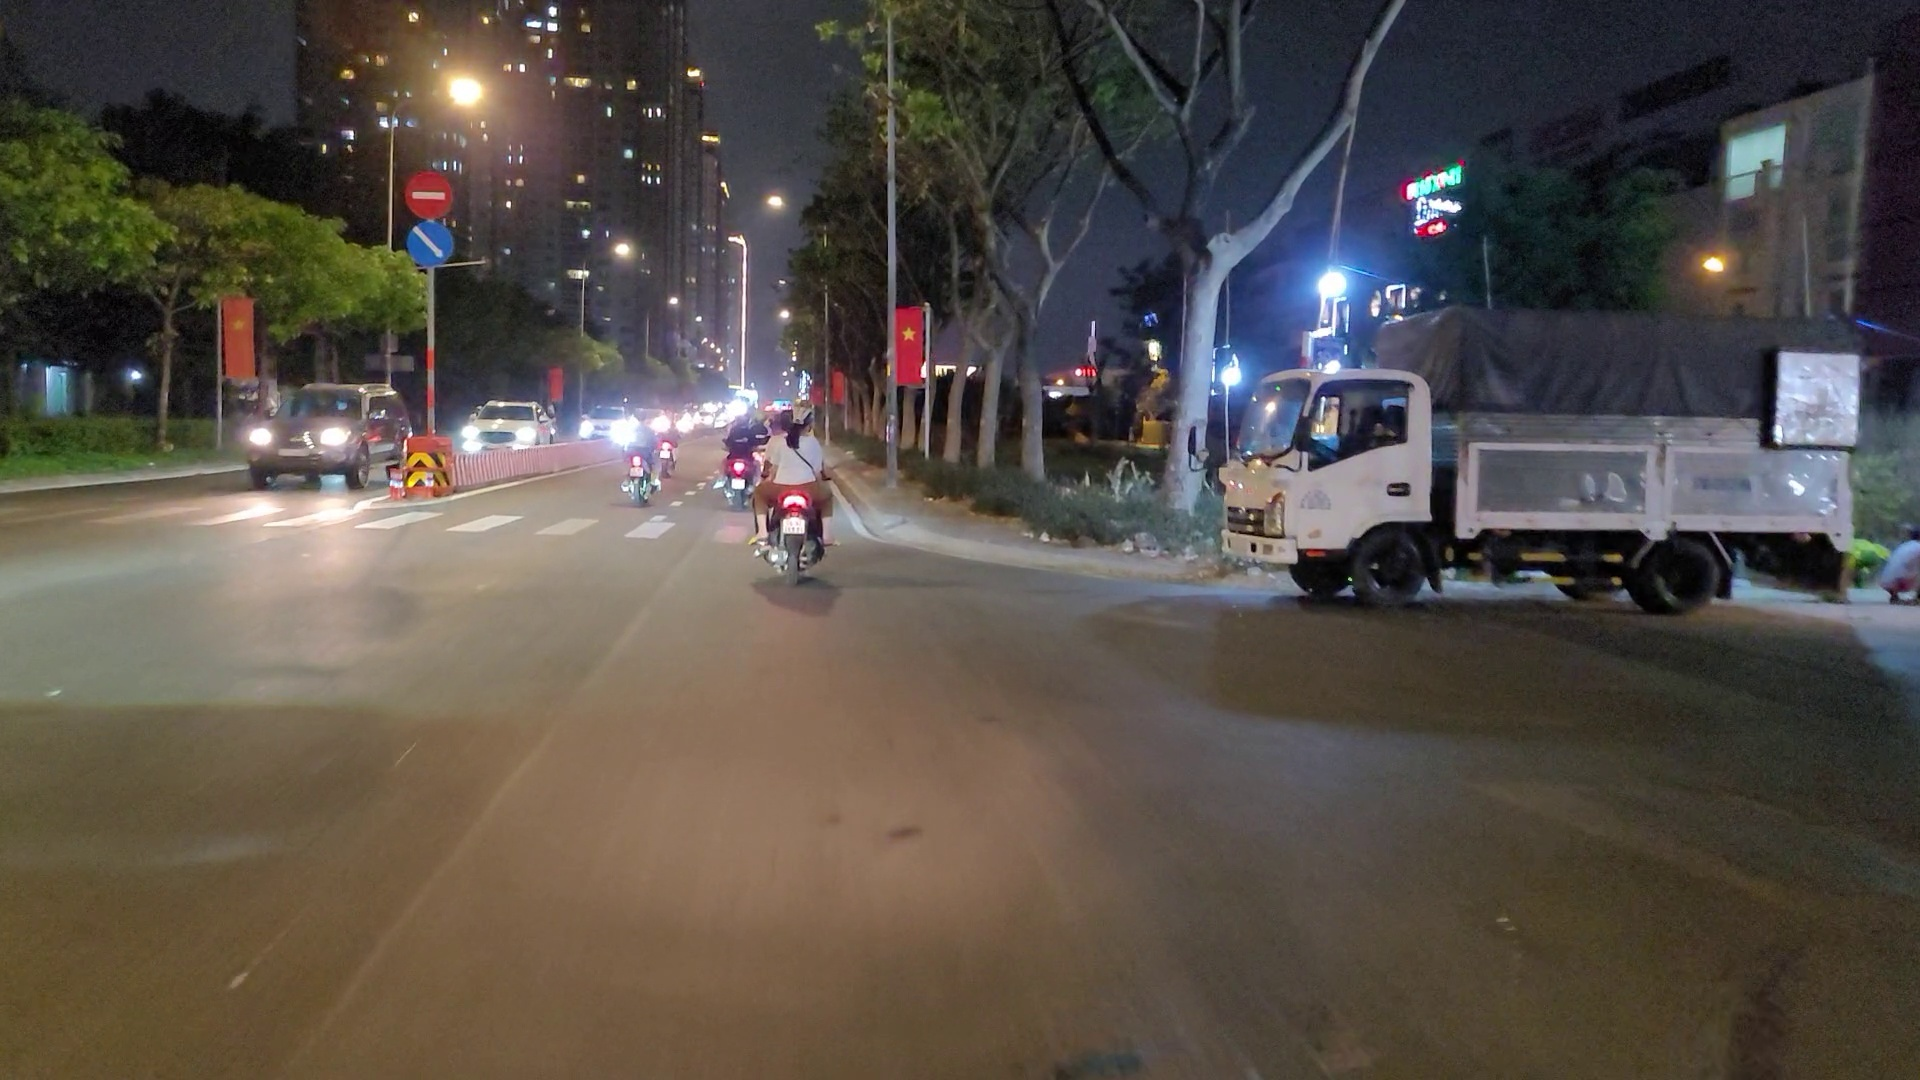Cam di nguoc chieu: (398, 170, 455, 219)
Huong di phai re phai: (405, 220, 454, 266)
